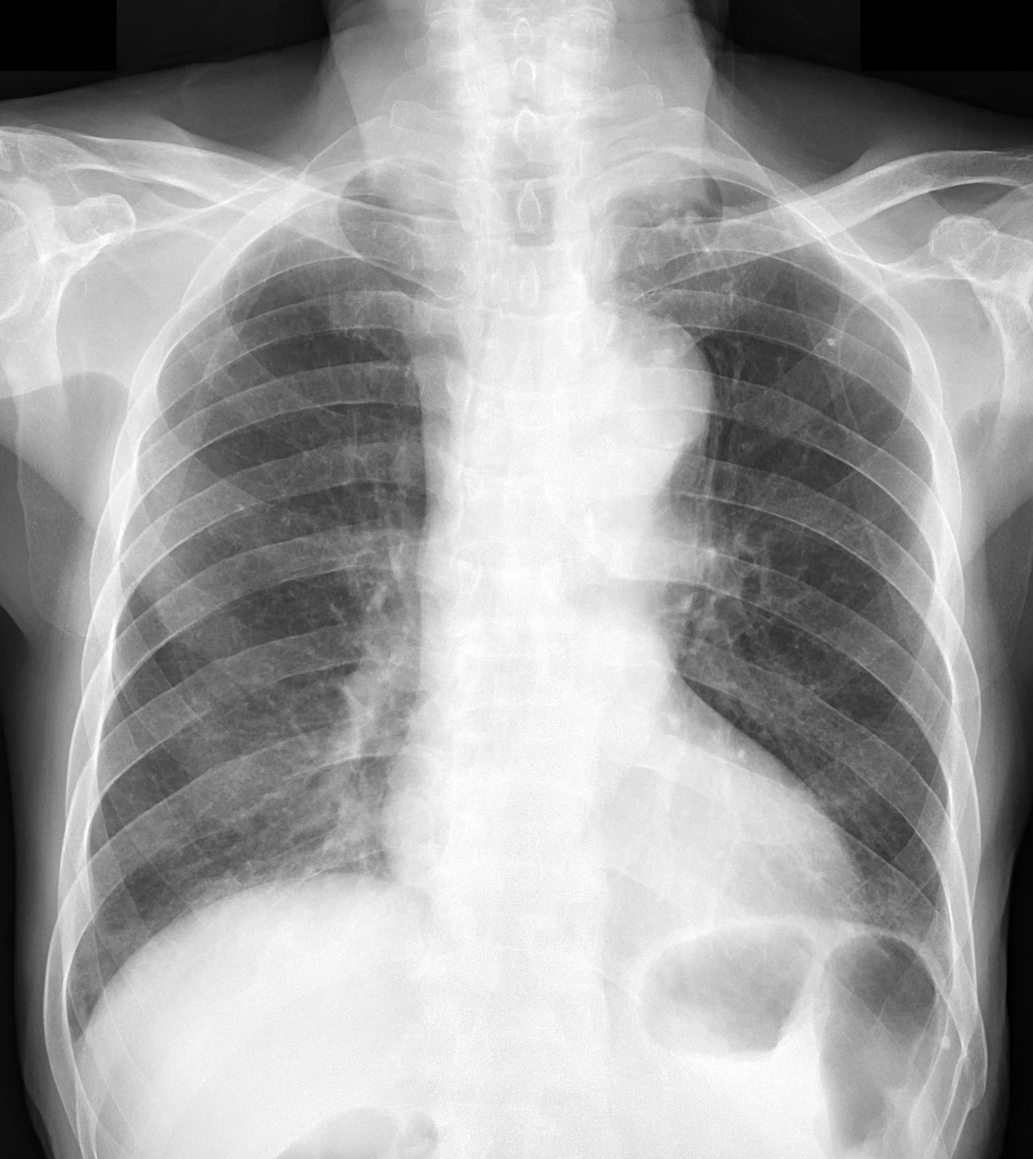Aortic enlargement: (523, 301, 715, 504)
Cardiomegaly: (376, 760, 865, 942)
Pleural thickening: (584, 177, 696, 301), (387, 192, 455, 219)
Pulmonary fibrosis: (674, 207, 750, 348)
